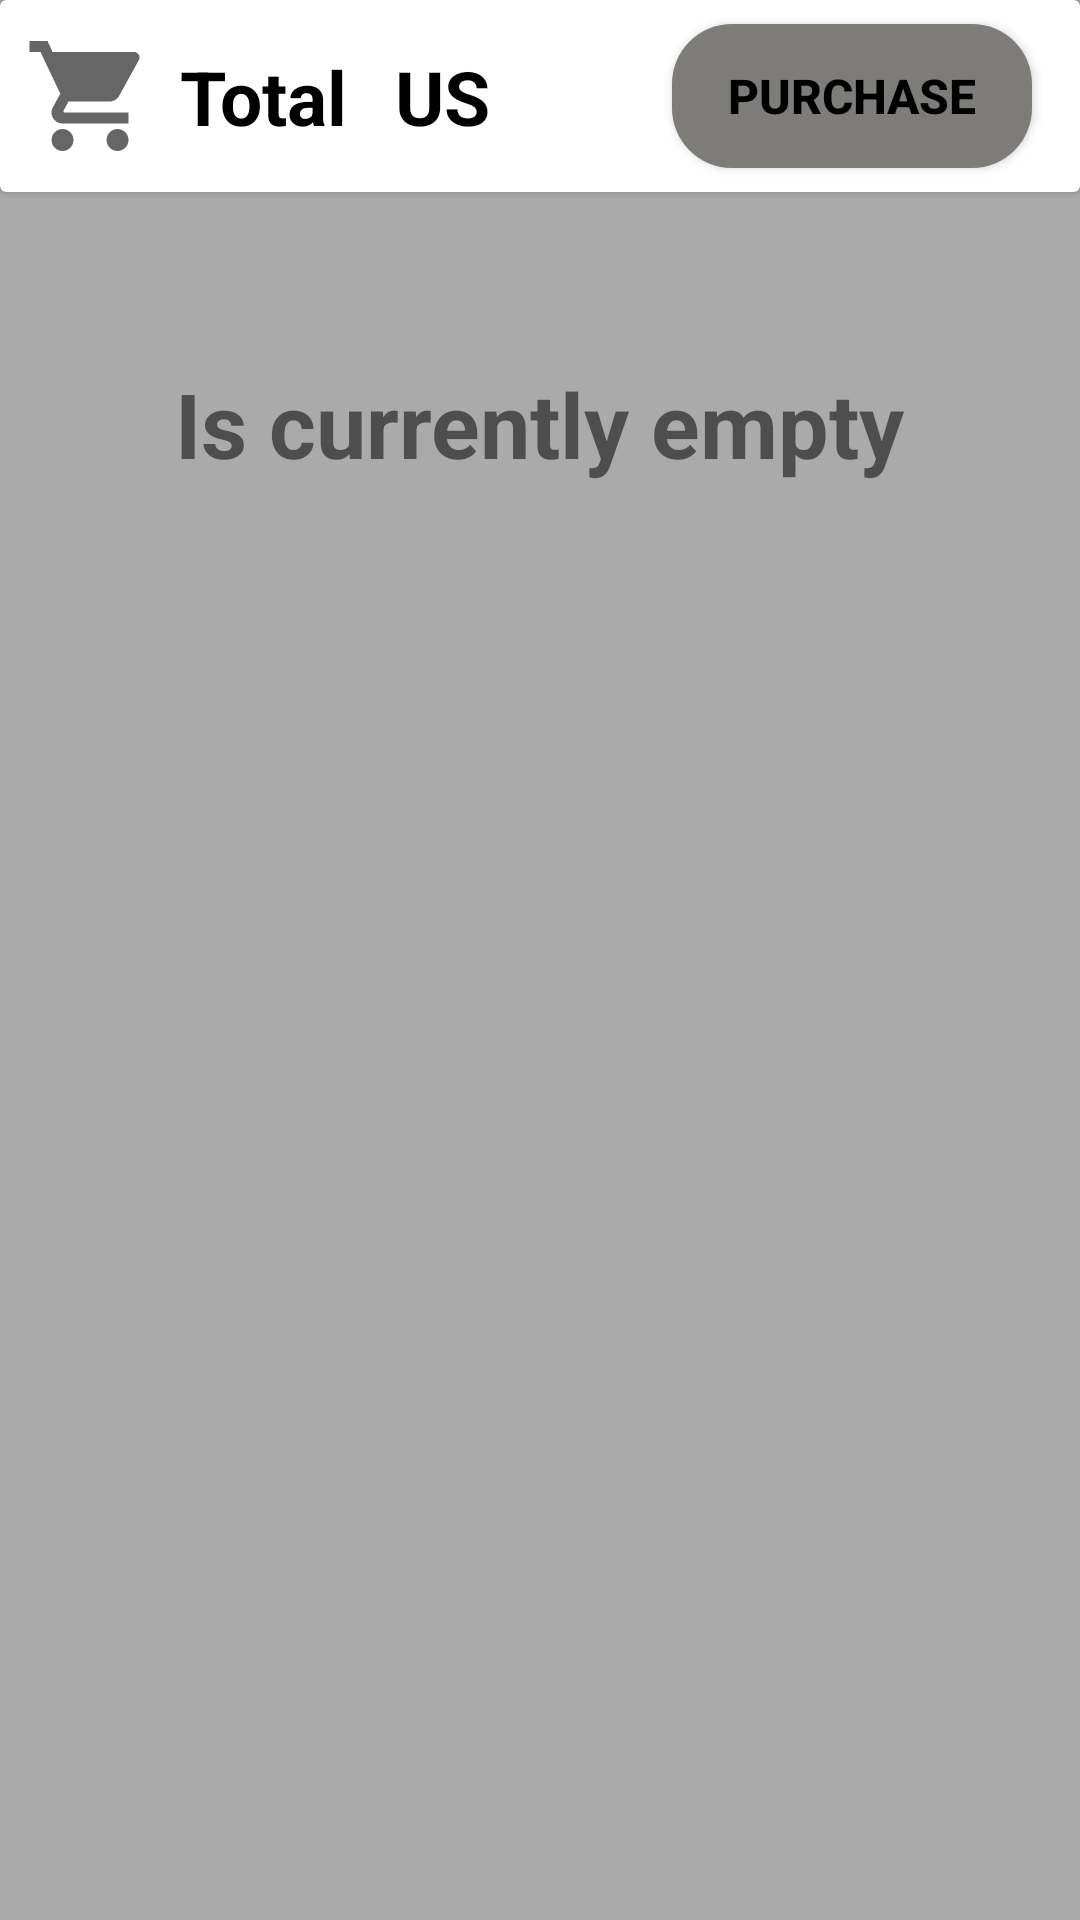

Point at icon controls on the screen. Image size 1080×1920, points as point (x, y).
shopping cart: point (84, 96)
